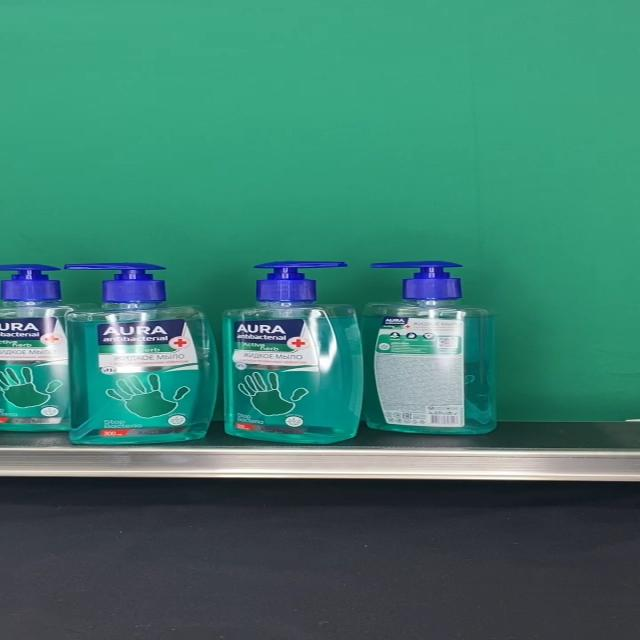Bottle: (66, 262, 218, 444), (220, 262, 364, 444), (362, 260, 497, 435), (0, 264, 101, 432)
Cap: (252, 261, 348, 302), (63, 262, 165, 300), (369, 260, 461, 300), (0, 264, 62, 300)
